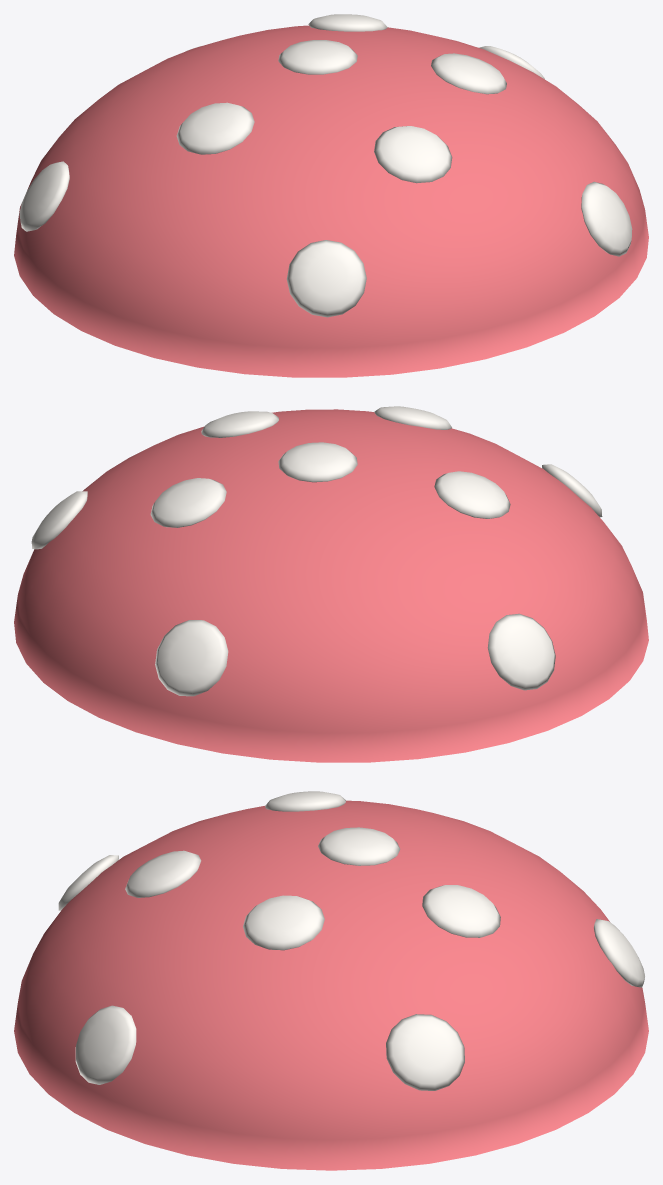
File: mushroom_hat.glb
The picture shows the model from 3 angles, top to bottom: view 1: azimuth 30°, elevation 25°; view 2: azimuth 150°, elevation 25°; view 3: azimuth 270°, elevation 25°; orthographic projection. The views are drawn at different scales.
Parts seen in each view (by area): view 1: Head; view 2: Head; view 3: Head.
Part boxes in pixels (<box>): Head: <box>14,14,648,377</box>; Head: <box>14,406,648,762</box>; Head: <box>14,791,648,1170</box>.
Size of the model in its own units: 1.04 by 0.3848 by 1.
